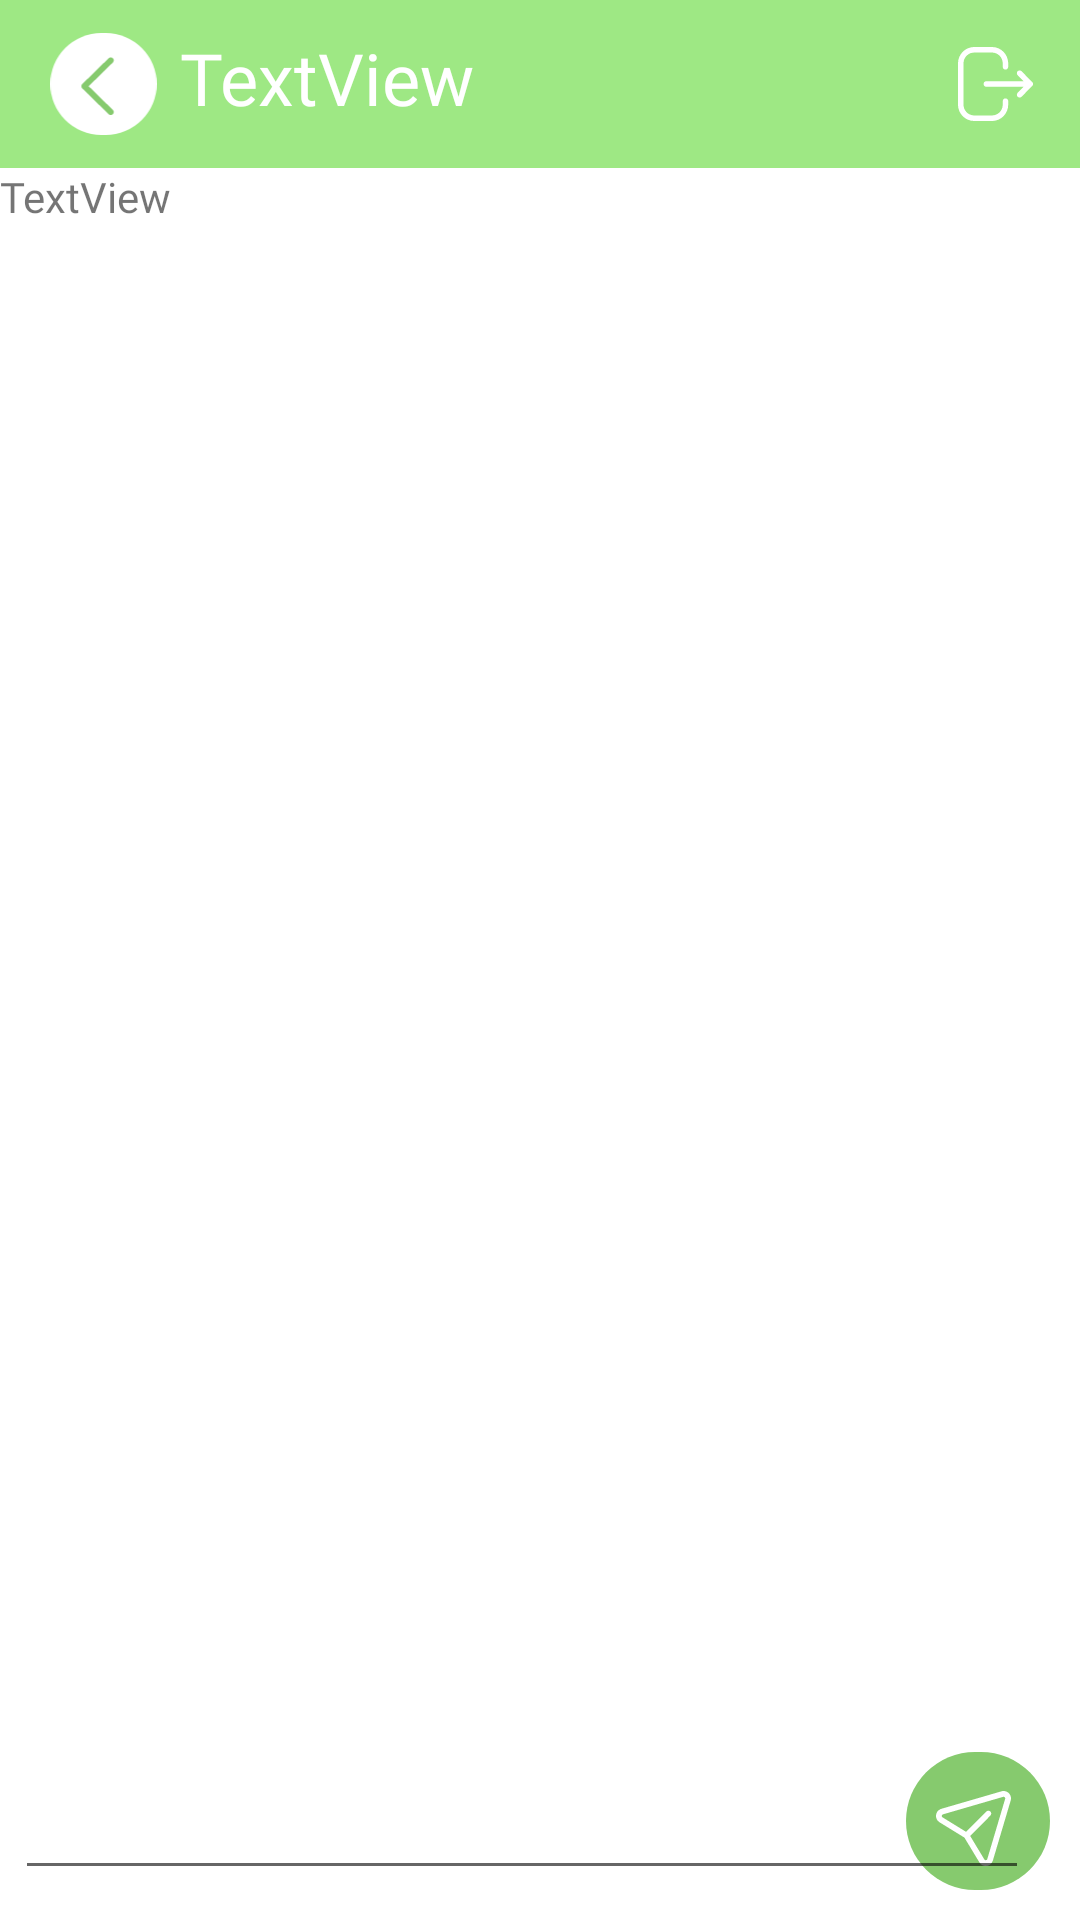

Point at icon controls on the screen. Image size 1080 x 1920, points as (x,y).
send: (978,1821)
universal back: (103,84)
